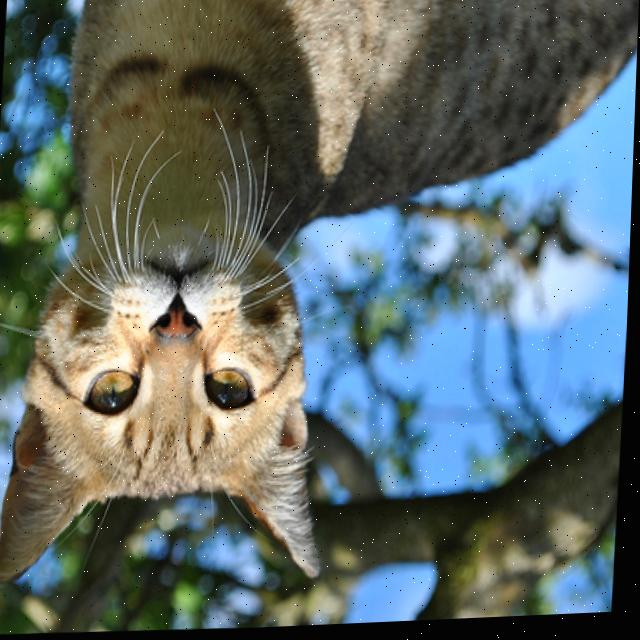Egyptian Mau: (0, 0, 640, 605)
